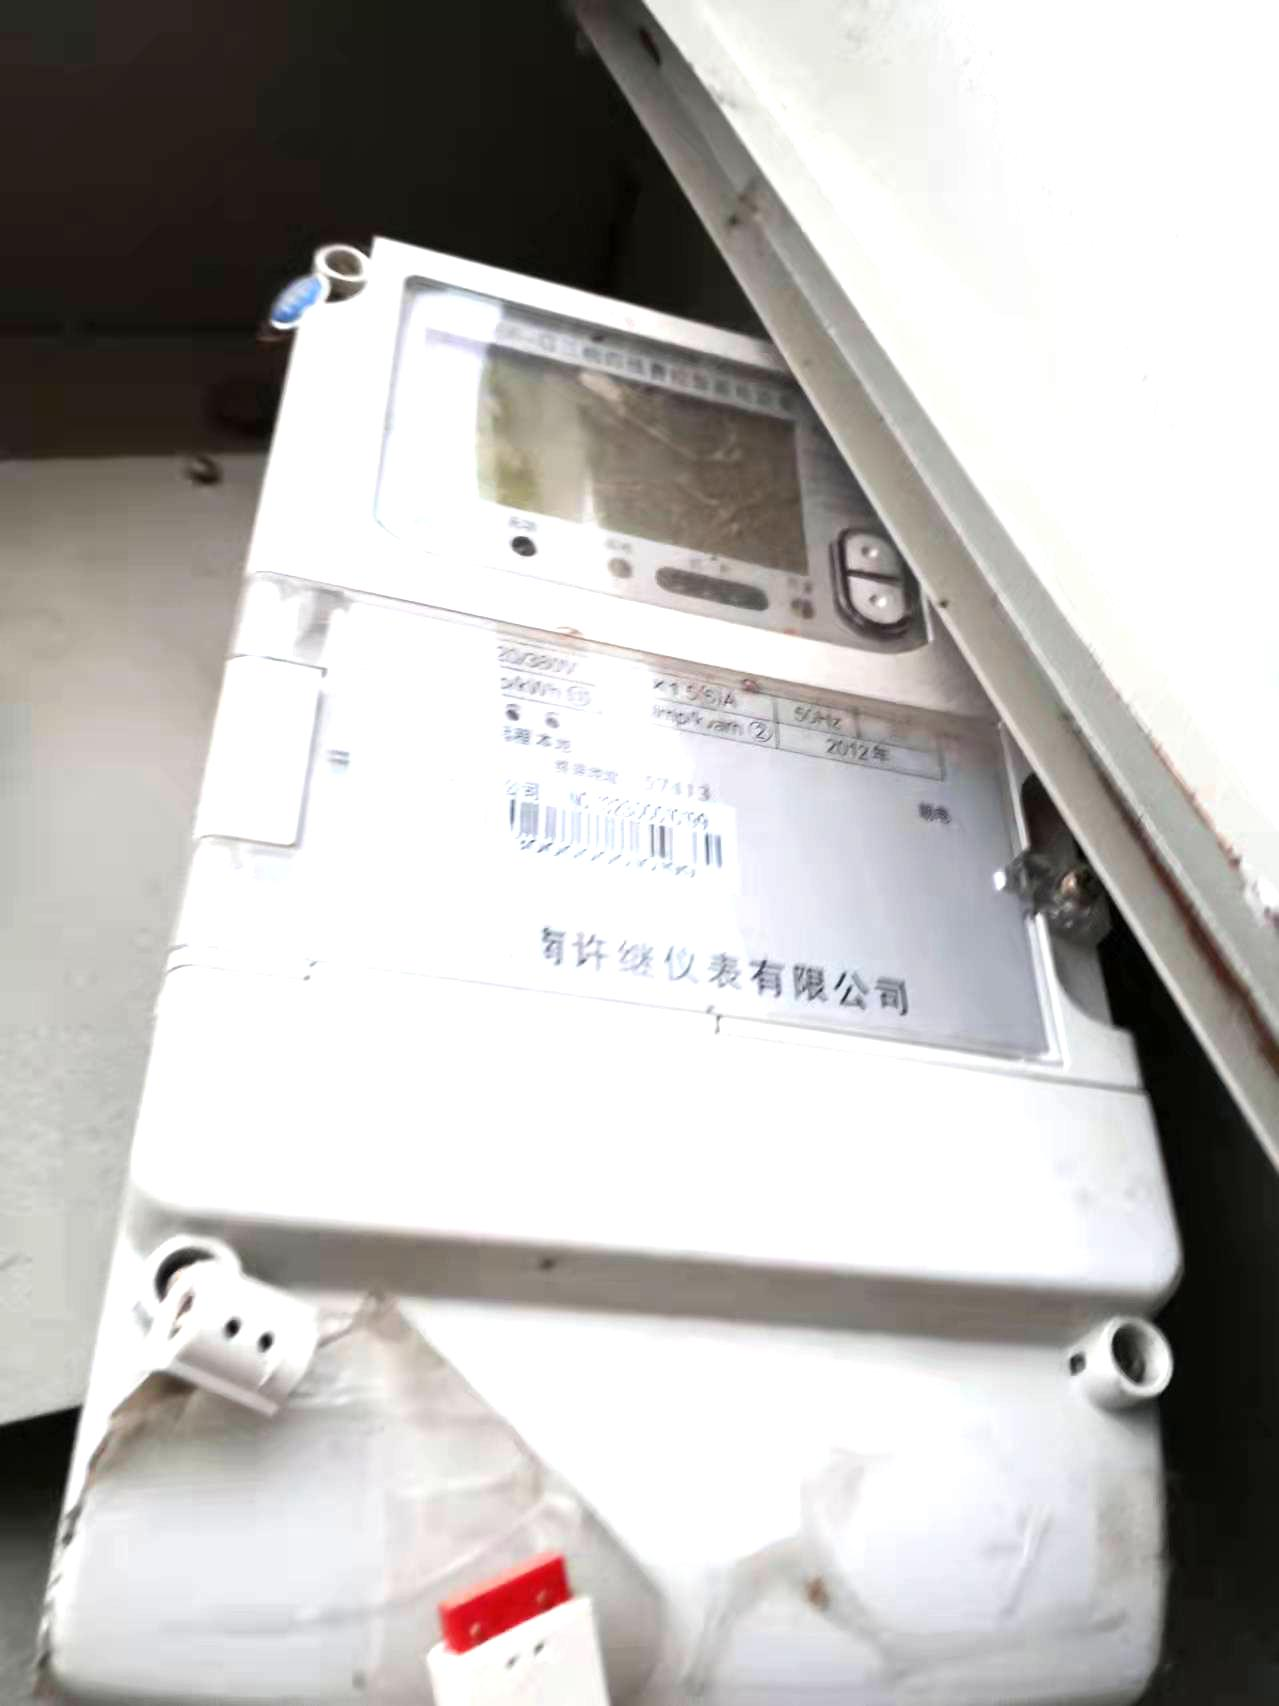digital: (132, 238, 1184, 1273)
